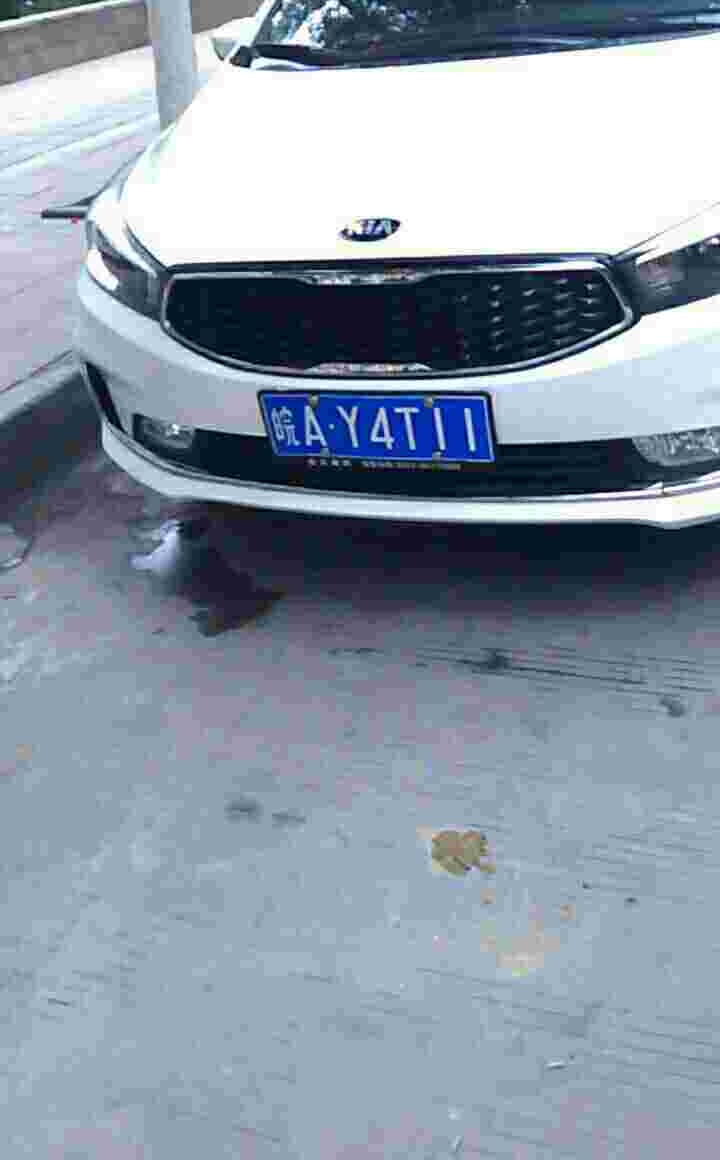license_plate: (264, 385, 505, 475)
